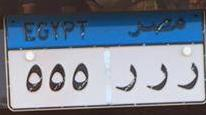5: (22, 61, 44, 93), (69, 60, 91, 91), (46, 63, 66, 94)
raa: (145, 60, 169, 93), (114, 62, 138, 95), (176, 62, 199, 92)
